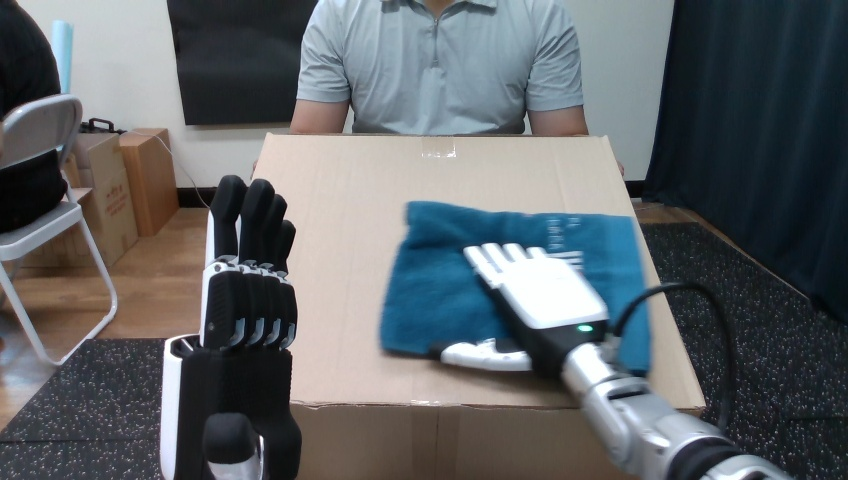left robot hand: (439, 243, 790, 479), (160, 175, 300, 478)
